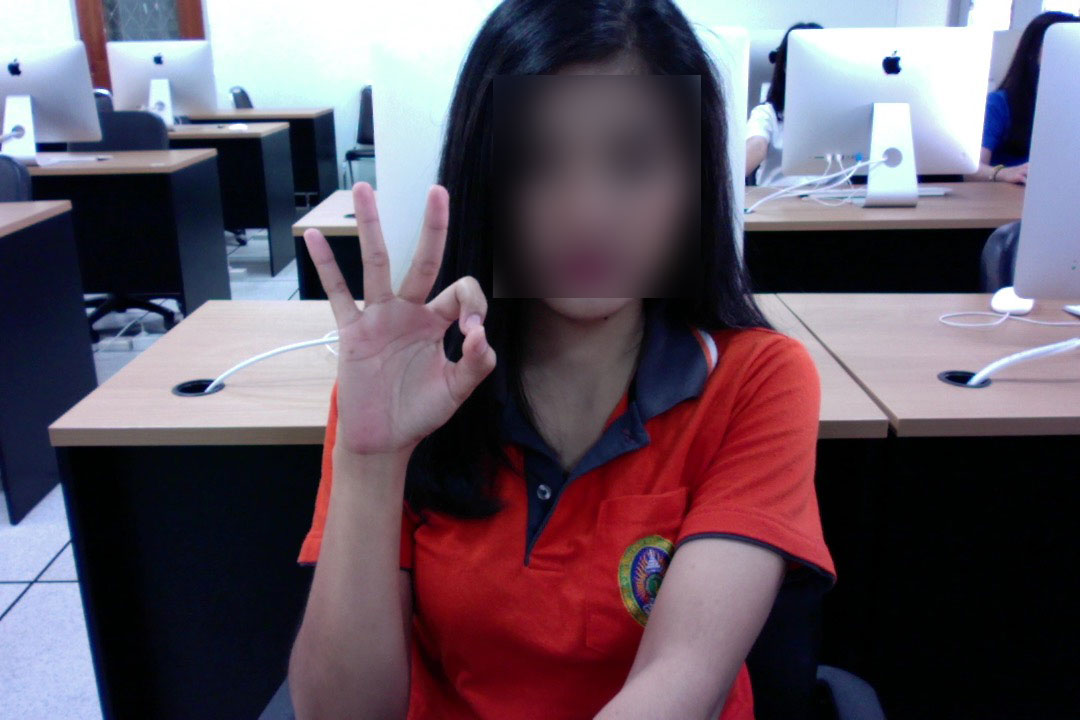for: (286, 164, 509, 493)
